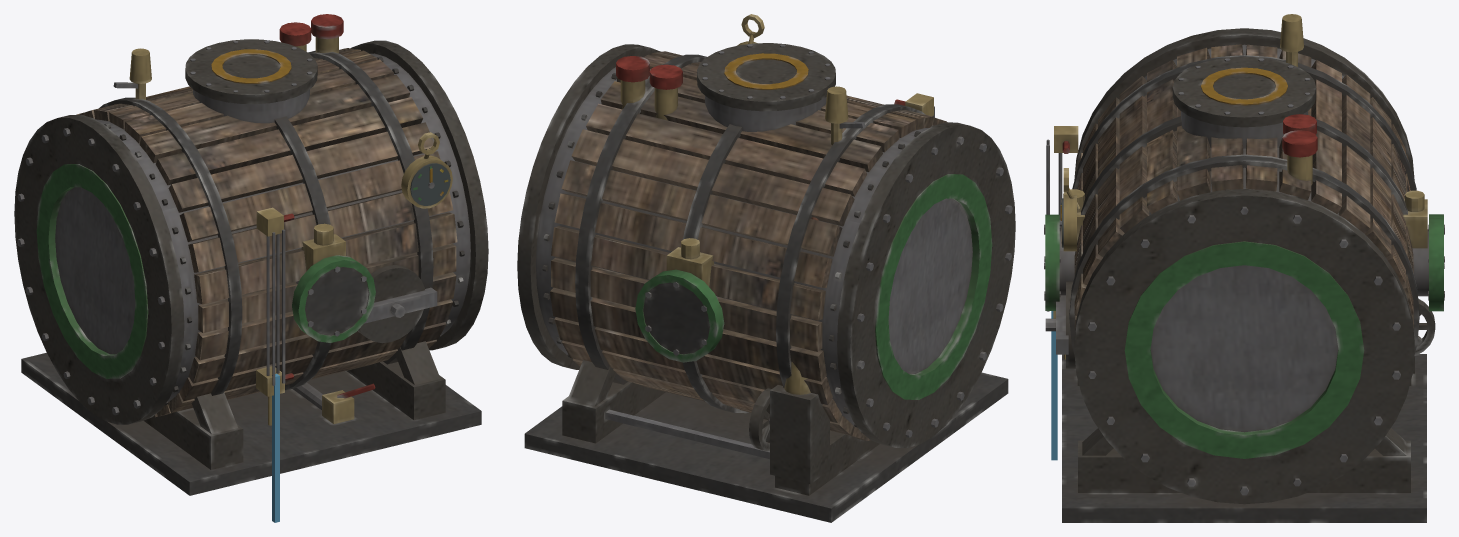
Rendered from feBoilerDrum_HD.fbx.
3 views of the same model, side by side, from view 1: azimuth 30°, elevation 25°; view 2: azimuth 150°, elevation 25°; view 3: azimuth 270°, elevation 25° (orthographic). The views are drawn at different scales.
Visible parts, largest first — view 1: feBoilerDrum_Base, FeSurface_r0.42_Level; view 2: feBoilerDrum_Base, FeWorkSpin_x1.5_FeedPump; view 3: feBoilerDrum_Base, FeSurface_r0.42_Level, FeWorkSpin_x1.5_FeedPump.
Part boxes in pixels (x1,y1,x2,y2): feBoilerDrum_Base: (14, 14, 488, 495); FeSurface_r0.42_Level: (272, 373, 279, 522); feBoilerDrum_Base: (517, 14, 1015, 522); FeWorkSpin_x1.5_FeedPump: (749, 388, 771, 451); feBoilerDrum_Base: (1044, 14, 1444, 522); FeSurface_r0.42_Level: (1051, 311, 1057, 460); FeWorkSpin_x1.5_FeedPump: (1414, 298, 1435, 355).
Bounding box in the file's own units: 1.02 × 1.19 × 1.01.
2 materials, 1 textured.
